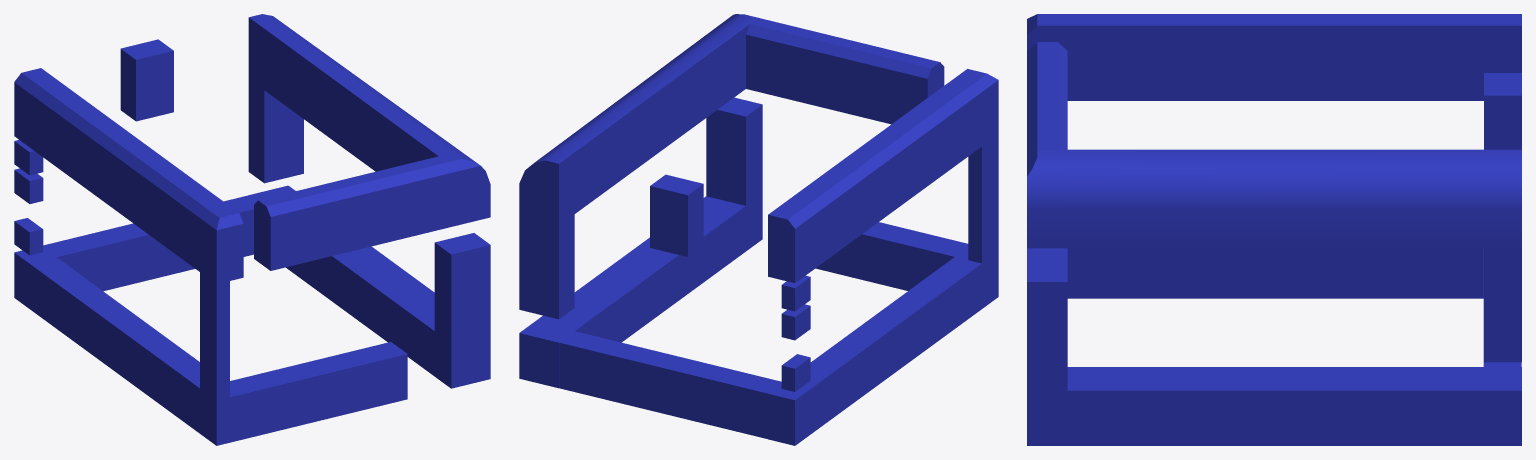
Rendered from Laberinto.fbx.
The picture shows the model from 3 angles, left to right: view 1: azimuth 30°, elevation 25°; view 2: azimuth 150°, elevation 25°; view 3: azimuth 270°, elevation 25°; orthographic projection. The views are drawn at different scales.
Parts seen in each view (by area): view 1: polySurface14; view 2: polySurface14; view 3: polySurface14.
Part boxes in pixels (box(x1,y1,x2,y2)): polySurface14: box(14, 14, 490, 445); polySurface14: box(519, 14, 998, 445); polySurface14: box(1027, 14, 1521, 445).
Size of the model in its own units: 5.28 by 4.11 by 6.75.
